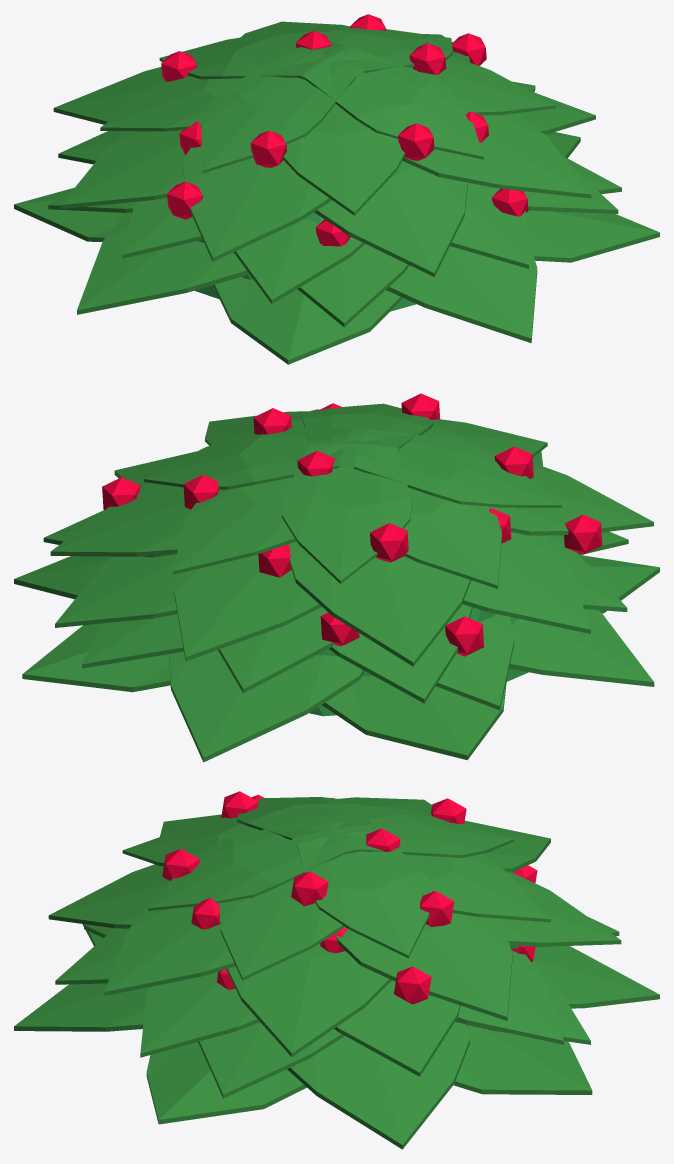
File: BushLRedFruits.fbx
3 views of the same model, one above another, from view 1: azimuth 30°, elevation 25°; view 2: azimuth 150°, elevation 25°; view 3: azimuth 270°, elevation 25° (orthographic). The views are drawn at different scales.
Parts seen in each view (by area): view 1: BushLRedFruits; view 2: BushLRedFruits; view 3: BushLRedFruits.
Part boxes in pixels (box(x1,y1,x2,y2)): BushLRedFruits: box(14, 14, 659, 364); BushLRedFruits: box(14, 393, 659, 762); BushLRedFruits: box(14, 791, 659, 1149).
Size of the model in its own units: 1000 by 320 by 1007.
